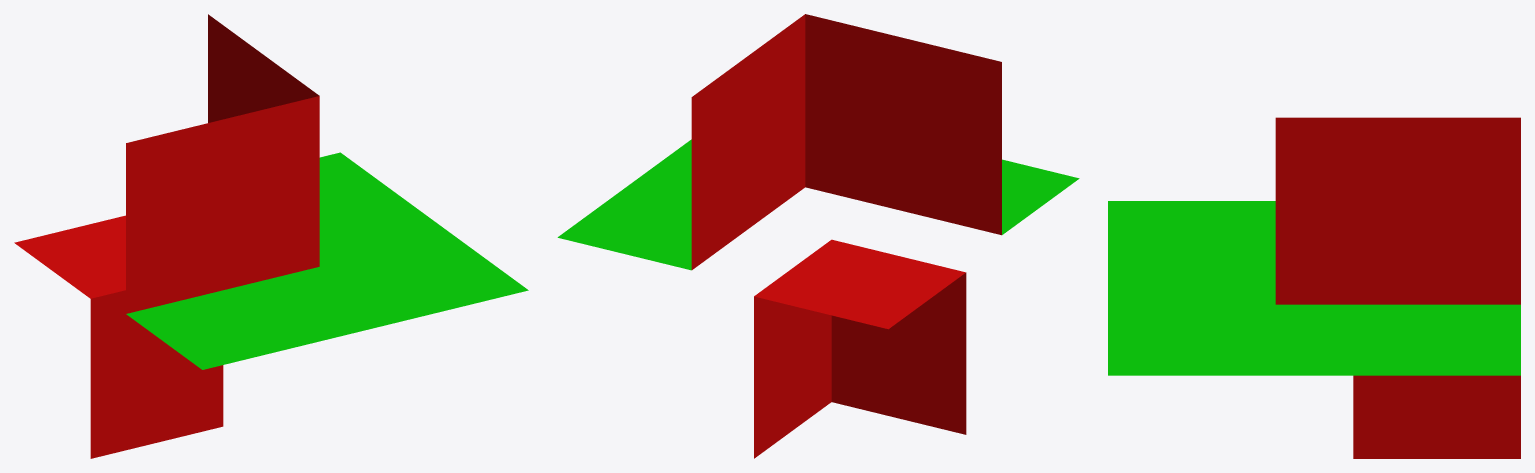
3 views of the same model, side by side, from view 1: azimuth 30°, elevation 25°; view 2: azimuth 150°, elevation 25°; view 3: azimuth 270°, elevation 25° (orthographic). The views are drawn at different scales.
Parts seen in each view (by area): view 1: None_W_W_E_E_E_W_A_E_None; view 2: None_W_W_E_E_E_W_A_E_None; view 3: None_W_W_E_E_E_W_A_E_None.
Boxes of the visible parts, x1,y1,x2,y2 form: None_W_W_E_E_E_W_A_E_None: (14, 14, 528, 458); None_W_W_E_E_E_W_A_E_None: (557, 14, 1079, 458); None_W_W_E_E_E_W_A_E_None: (1108, 117, 1520, 458).
Bounding box in the file's own units: 100 × 100 × 100.
